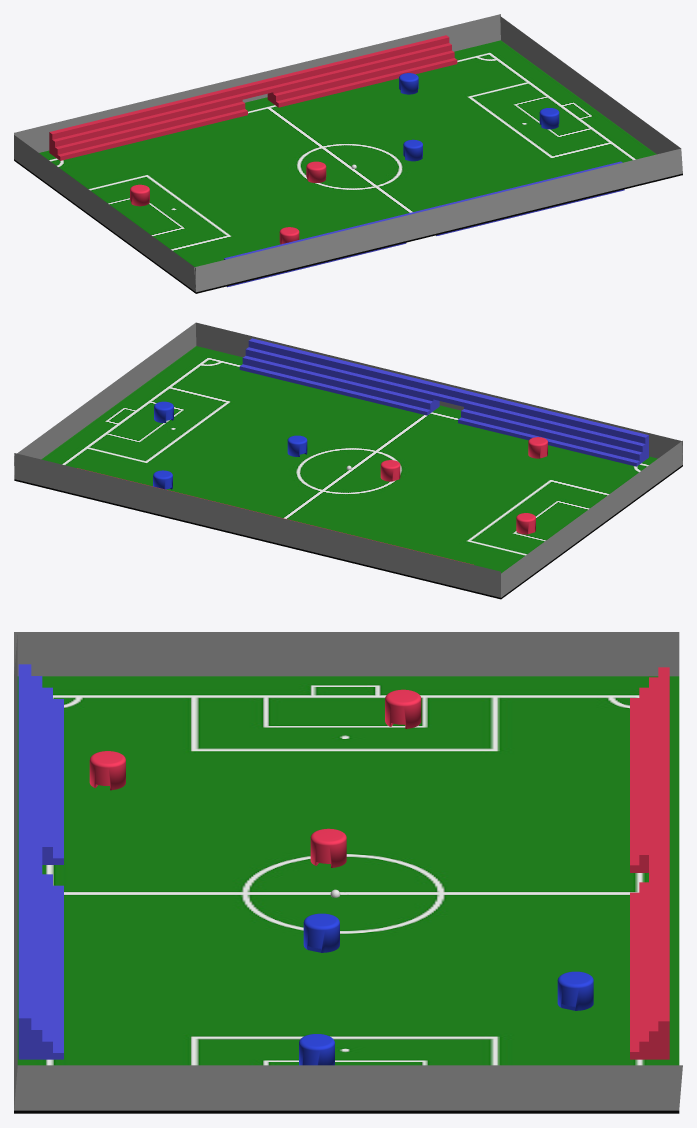
Rendered from SKillKicks.glb.
The picture shows the model from 3 angles, top to bottom: view 1: azimuth 30°, elevation 25°; view 2: azimuth 150°, elevation 25°; view 3: azimuth 270°, elevation 25°; orthographic projection. The views are drawn at different scales.
Parts seen in each view (by area): view 1: Plane, Cube.004, Cube.005; view 2: Plane, Cube.005; view 3: Plane, Cube.005, Cube.004, Cylinder.001, Cylinder.002, Cylinder.004, Cylinder.005, Cylinder, Cylinder.003.
Boxes of the visible parts, x1,y1,x2,y2 form: Plane: (14, 14, 682, 293); Cube.004: (49, 35, 457, 160); Cube.005: (224, 161, 624, 287); Plane: (14, 322, 682, 599); Cube.005: (239, 338, 648, 466); Plane: (14, 632, 682, 1113); Cube.005: (18, 664, 63, 1059); Cube.004: (630, 667, 669, 1059); Cylinder.001: (303, 913, 339, 952); Cylinder.002: (557, 971, 593, 1010); Cylinder.004: (385, 689, 421, 728); Cylinder.005: (89, 751, 125, 790); Cylinder: (310, 828, 346, 867); Cylinder.003: (299, 1034, 334, 1065).
Size of the model in its own units: 9.14 by 0.5394 by 5.94.
7 materials, 1 textured.
